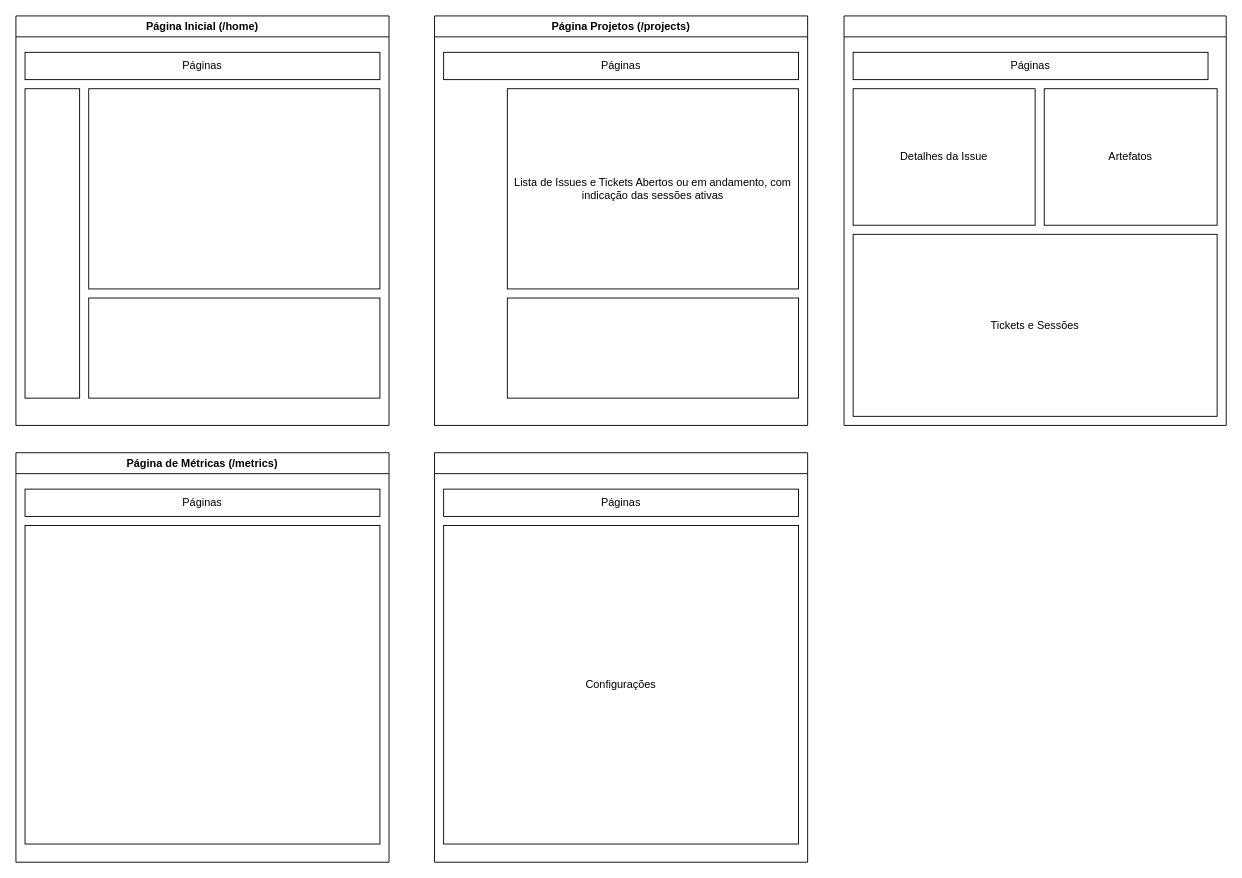
The diagram is 1242 pixels wide and 878 high, and some of its shapes have lost their labels. Here are the shapes that lost their labels. From the top down, the box of each, then its label:
(88, 88, 380, 289): Sessões pi ativas (cards)
(843, 15, 1226, 425): Página Projetos (/projects/issue/{issue})
(24, 88, 80, 398): Lista de issues abertas ou em andamento
(88, 297, 380, 398): Métricas do mês
(506, 297, 799, 398): Métricas do Projeto
(434, 452, 808, 862): Página de Configurações (/config)
(24, 525, 380, 844): Métricas
